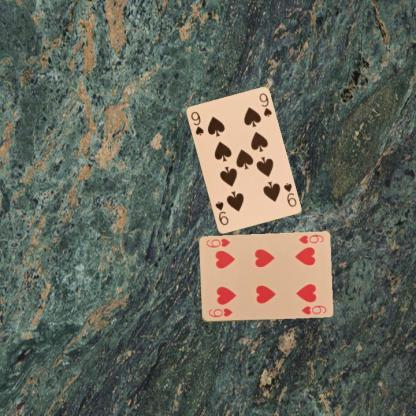6h: (206, 306, 233, 318), (296, 233, 324, 244)
9s: (280, 180, 298, 209), (188, 108, 206, 136)
